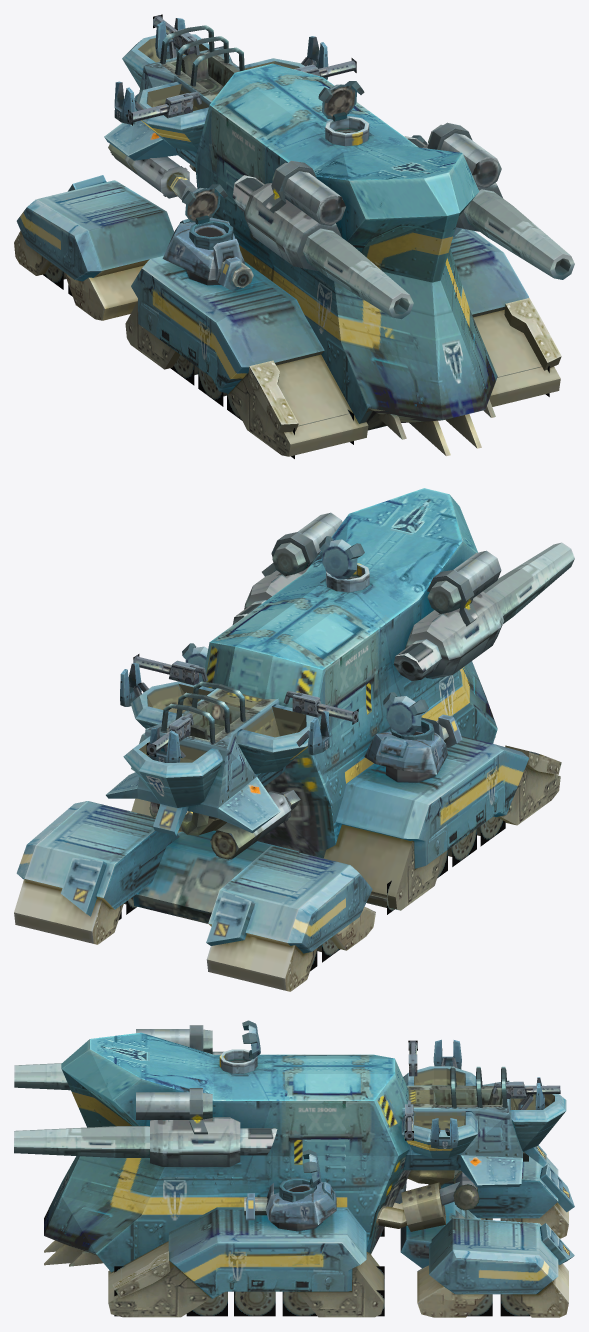
Rendered from VXBSTAH.obj.
3 renders of one model, top to bottom at view 1: azimuth 30°, elevation 25°; view 2: azimuth 150°, elevation 25°; view 3: azimuth 270°, elevation 25°, orthographic. The views are drawn at different scales.
Parts seen in each view (by area): view 1: Node 0, Node 16, Node 17, Node 19, Node 29, Node 18, Node 65, Node 32, Node 41, Node 30, Node 40, Node 46 (+3 smaller); view 2: Node 0, Node 16, Node 29, Node 18, Node 17, Node 65, Node 32, Node 41, Node 36, Node 40, Node 35, Node 46 (+1 smaller); view 3: Node 0, Node 18, Node 19, Node 24, Node 17, Node 16, Node 5, Node 47, Node 35, Node 60, Node 4, Node 40 (+5 smaller).
Part boxes in pixels (box(x1,y1,x2,y2)): Node 0: box(14, 25, 561, 456); Node 16: box(232, 160, 345, 270); Node 17: box(302, 228, 413, 319); Node 19: box(463, 189, 574, 279); Node 29: box(162, 217, 244, 285); Node 18: box(404, 122, 502, 231); Node 65: box(318, 81, 364, 121); Node 32: box(182, 184, 227, 224); Node 41: box(127, 91, 201, 125); Node 30: box(218, 257, 253, 290); Node 40: box(114, 81, 143, 124); Node 46: box(155, 18, 185, 59); Node 0: box(14, 488, 561, 991); Node 16: box(393, 550, 504, 680); Node 29: box(364, 717, 447, 782); Node 18: box(232, 512, 342, 624); Node 17: box(483, 542, 574, 623); Node 65: box(319, 536, 364, 579); Node 32: box(383, 692, 428, 735); Node 41: box(283, 691, 358, 724); Node 36: box(133, 654, 207, 685); Node 40: box(296, 711, 329, 755); Node 35: box(120, 663, 148, 706); Node 46: box(149, 727, 185, 762); Node 0: box(44, 1032, 574, 1317); Node 18: box(136, 1088, 277, 1166); Node 19: box(14, 1126, 149, 1157); Node 24: box(265, 1178, 336, 1231); Node 17: box(14, 1063, 70, 1090); Node 16: box(136, 1025, 223, 1054); Node 5: box(234, 1291, 275, 1316); Node 47: box(492, 1081, 560, 1098); Node 35: box(430, 1118, 458, 1148); Node 60: box(282, 1291, 317, 1316); Node 4: box(186, 1291, 227, 1316); Node 40: box(433, 1039, 461, 1069).
Size of the model in its own units: 6.94 by 6.58 by 14.05.
Materials: 57 (57 with a texture image).
